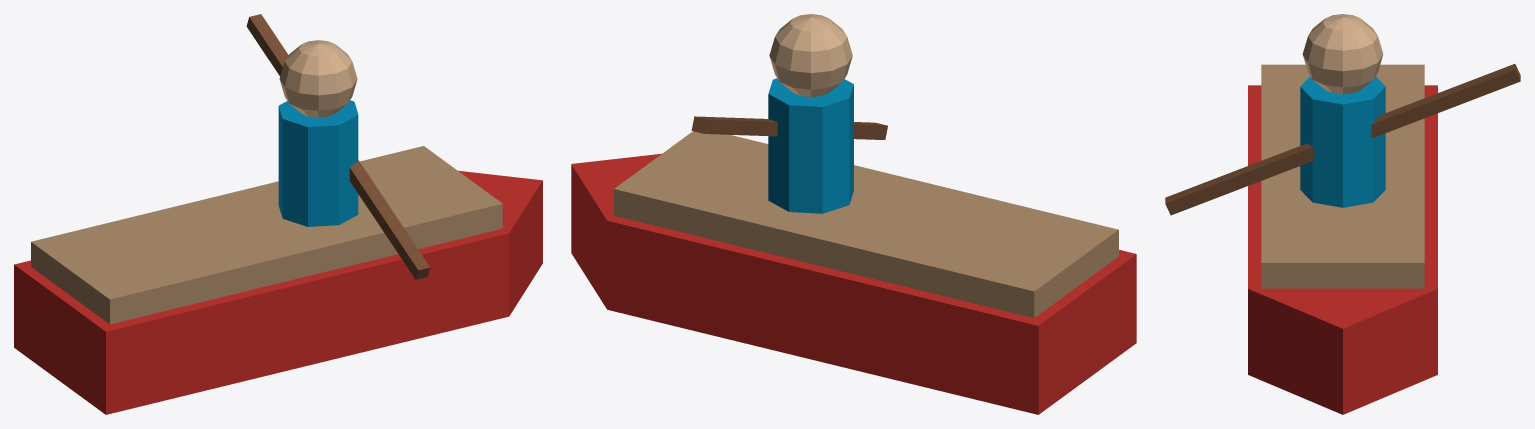
The model's file is canoe.glb.
3 renders of one model, left to right at view 1: azimuth 30°, elevation 25°; view 2: azimuth 150°, elevation 25°; view 3: azimuth 270°, elevation 25°, orthographic. The views are drawn at different scales.
Visible parts, largest first — view 1: canoe; view 2: canoe; view 3: canoe.
Boxes of the visible parts, x1,y1,x2,y2 form: canoe: (14,14,542,414); canoe: (571,14,1136,414); canoe: (1165,14,1520,414).
Size of the model in its own units: 0.2428 by 0.132 by 0.1497.
